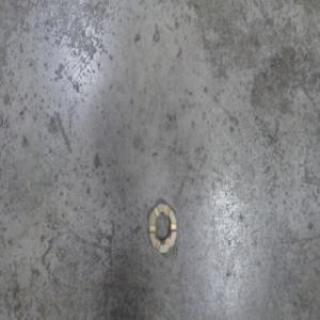Nuttrack_idkeyframe: (146, 198, 177, 254)
